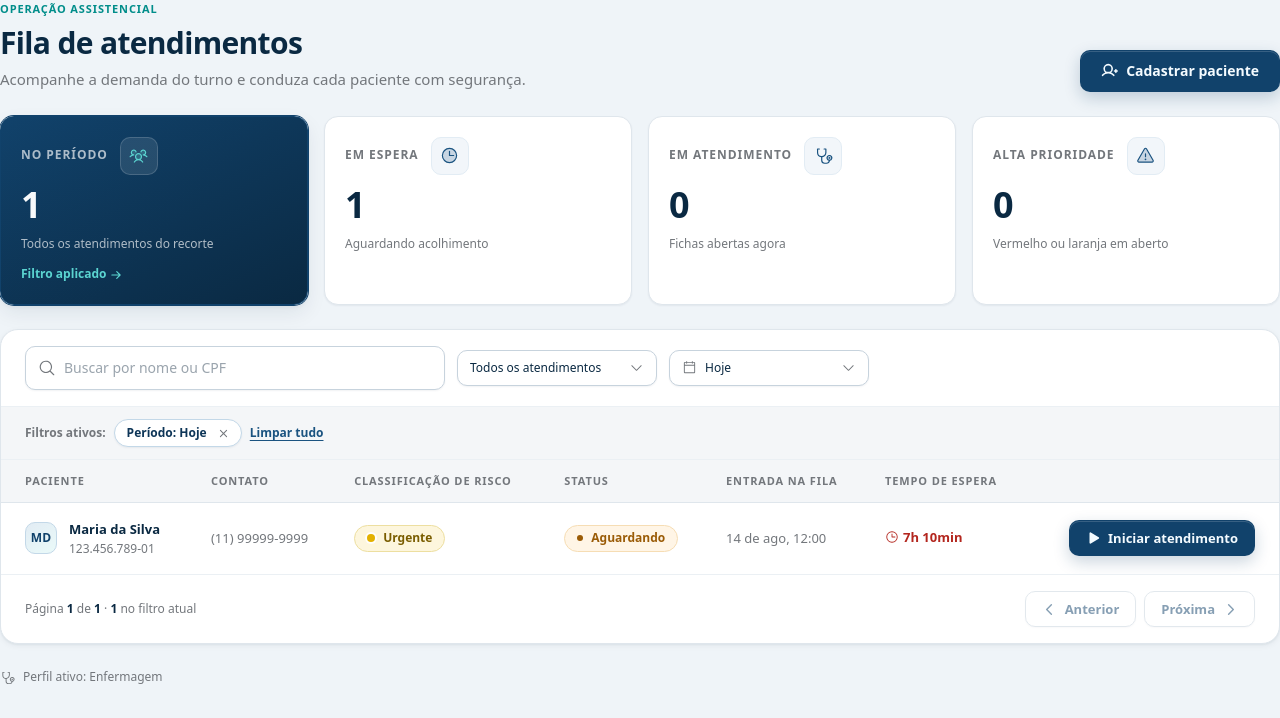
it: QueuePage › explica o conflito quando outro profissional vence a disputa
Click the button "Iniciar atendimento": {"x": 1162, "y": 538} x1=1069 y1=520 x2=1255 y2=556
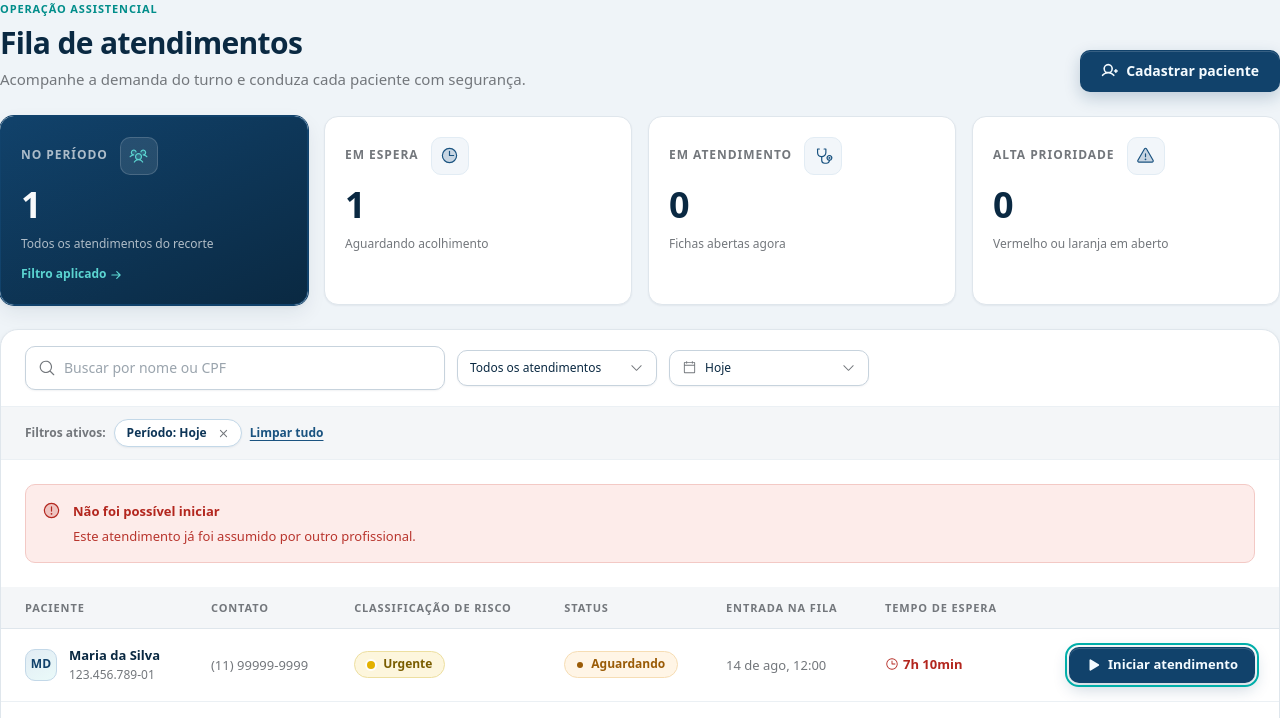
Check: the text "Este atendimento já foi assumido por outro profissional." is shown, box x1=73 y1=526 x2=416 y2=546
